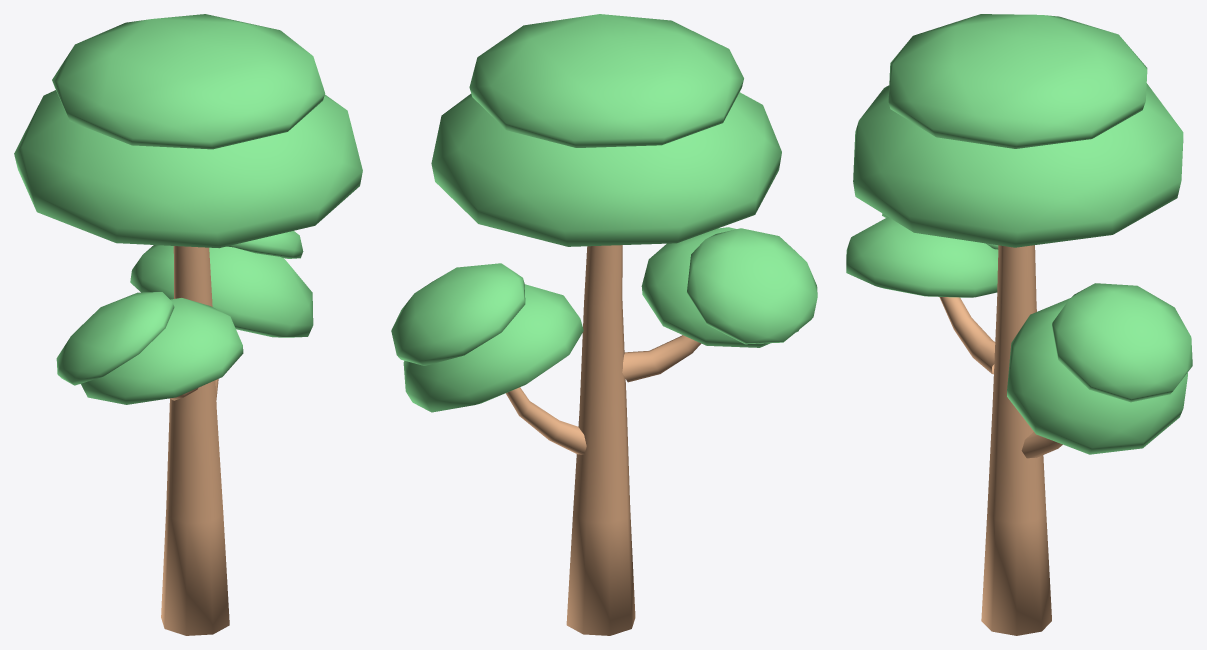
File: Pohon_7.fbx
3 renders of one model, left to right at view 1: azimuth 30°, elevation 25°; view 2: azimuth 150°, elevation 25°; view 3: azimuth 270°, elevation 25°, orthographic.
Visible parts, largest first — view 1: Circle.043; view 2: Circle.043; view 3: Circle.043.
Part boxes in pixels (x1,y1,x2,y2): Circle.043: [14, 14, 362, 635]; Circle.043: [391, 14, 817, 635]; Circle.043: [846, 14, 1192, 635].
Bounding box in the file's own units: 754 × 1323 × 716.
